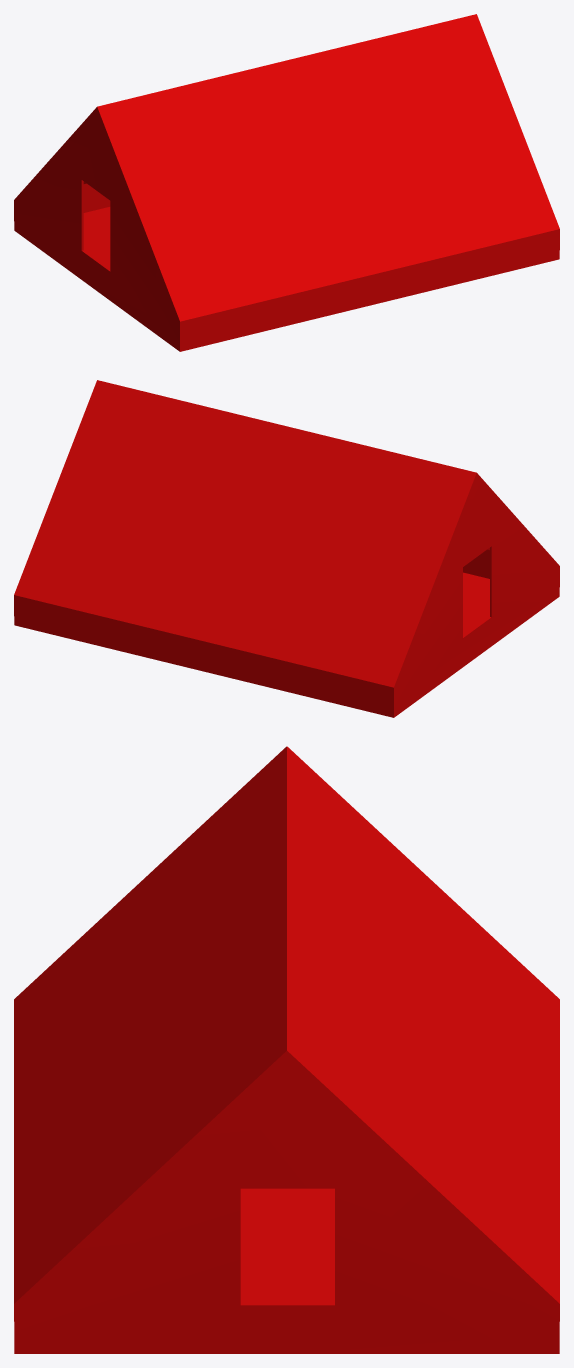
File: House_01_LP.glb
3 renders of one model, top to bottom at view 1: azimuth 30°, elevation 25°; view 2: azimuth 150°, elevation 25°; view 3: azimuth 270°, elevation 25°, orthographic. The views are drawn at different scales.
Parts seen in each view (by area): view 1: House_01_LP; view 2: House_01_LP; view 3: House_01_LP.
Boxes of the visible parts, left/top/right/bottom form: House_01_LP: left=14, top=14, right=559, bottom=351; House_01_LP: left=14, top=380, right=559, bottom=717; House_01_LP: left=14, top=746, right=559, bottom=1353.
Size of the model in its own units: 11.22 by 5.19 by 8.47.
